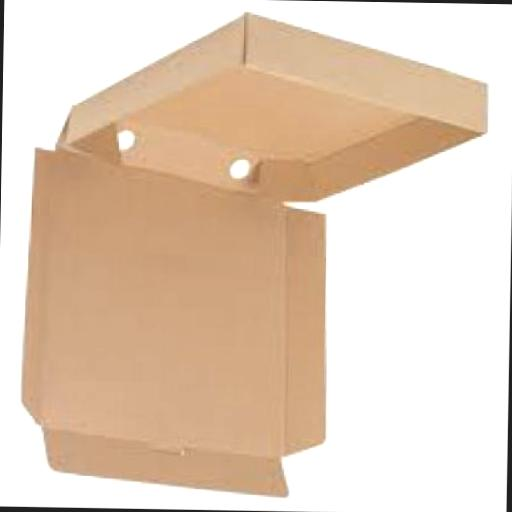cardboard: (18, 12, 489, 505)
